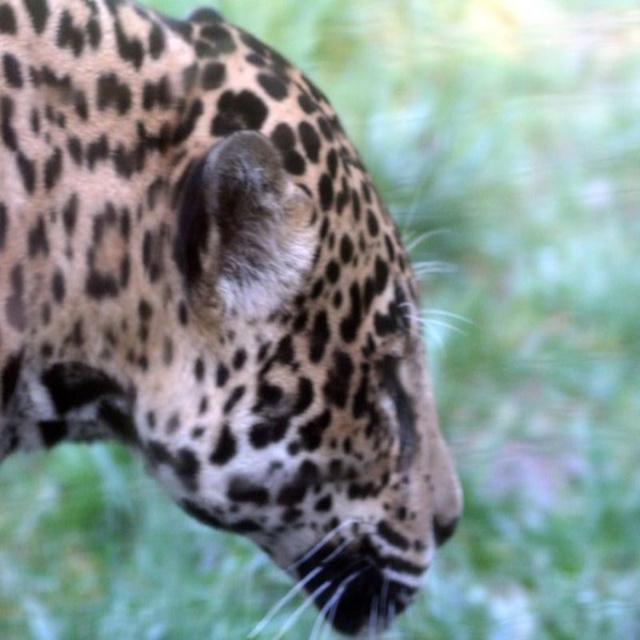Jaguar: (0, 0, 476, 639)
